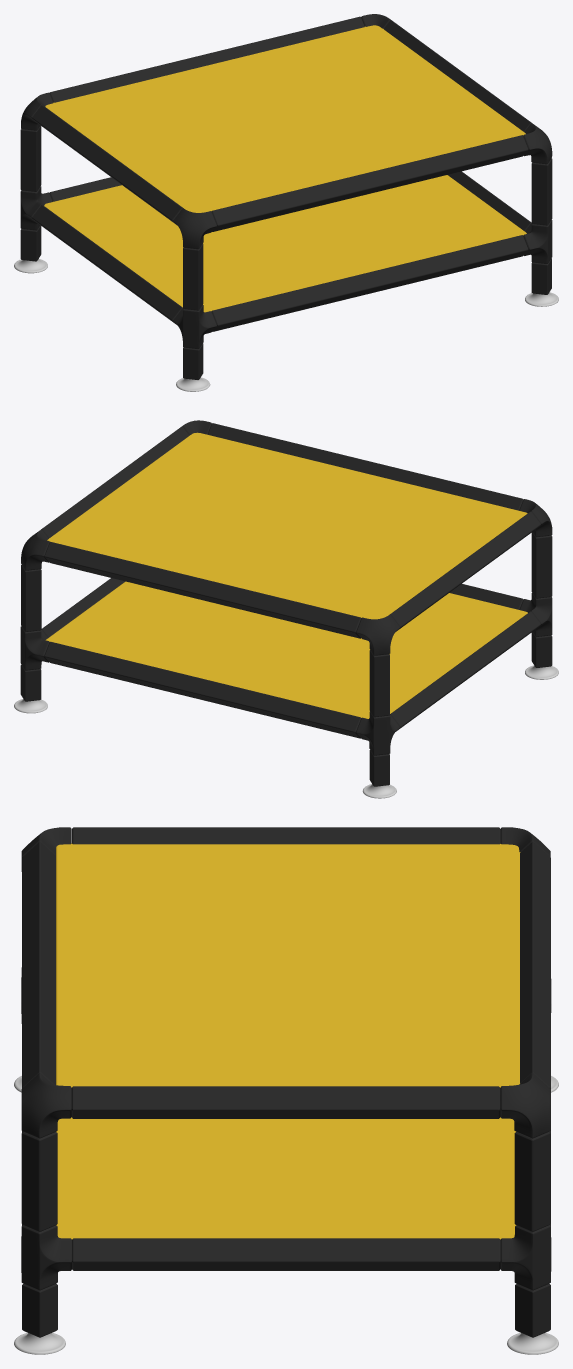
3 views of the same model, one above another, from view 1: azimuth 30°, elevation 25°; view 2: azimuth 150°, elevation 25°; view 3: azimuth 270°, elevation 25° (orthographic). The views are drawn at different scales.
Parts seen in each view (by area): view 1: 420x329x79; view 2: 420x329x79; view 3: 420x329x79.
Part boxes in pixels (x1,y1,x2,y2): 420x329x79: (14,14,558,391); 420x329x79: (14,420,558,798); 420x329x79: (14,827,558,1354).
Size of the model in its own units: 0.5099 by 0.2183 by 0.4182.
